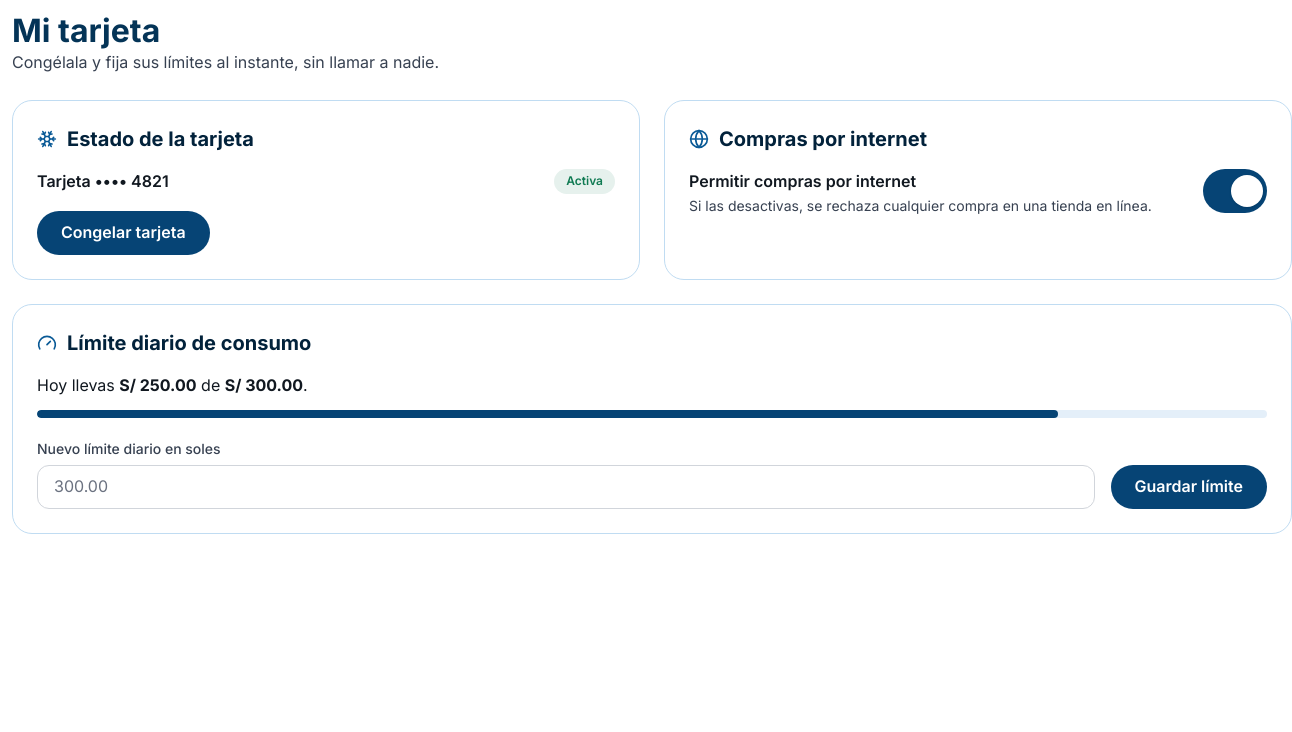
Test case: Controles de la tarjeta · HU-10 · AYNI-252 › escenario 1: congelar la deja CONGELADA al momento y lo anuncia
This screenshot has width=1292, height=732.
expect the heading "Estado de la tarjeta" is shown: met, box [37, 127, 254, 151]
Click the button "Congelar tarjeta" at [123, 233], box [37, 211, 210, 255]
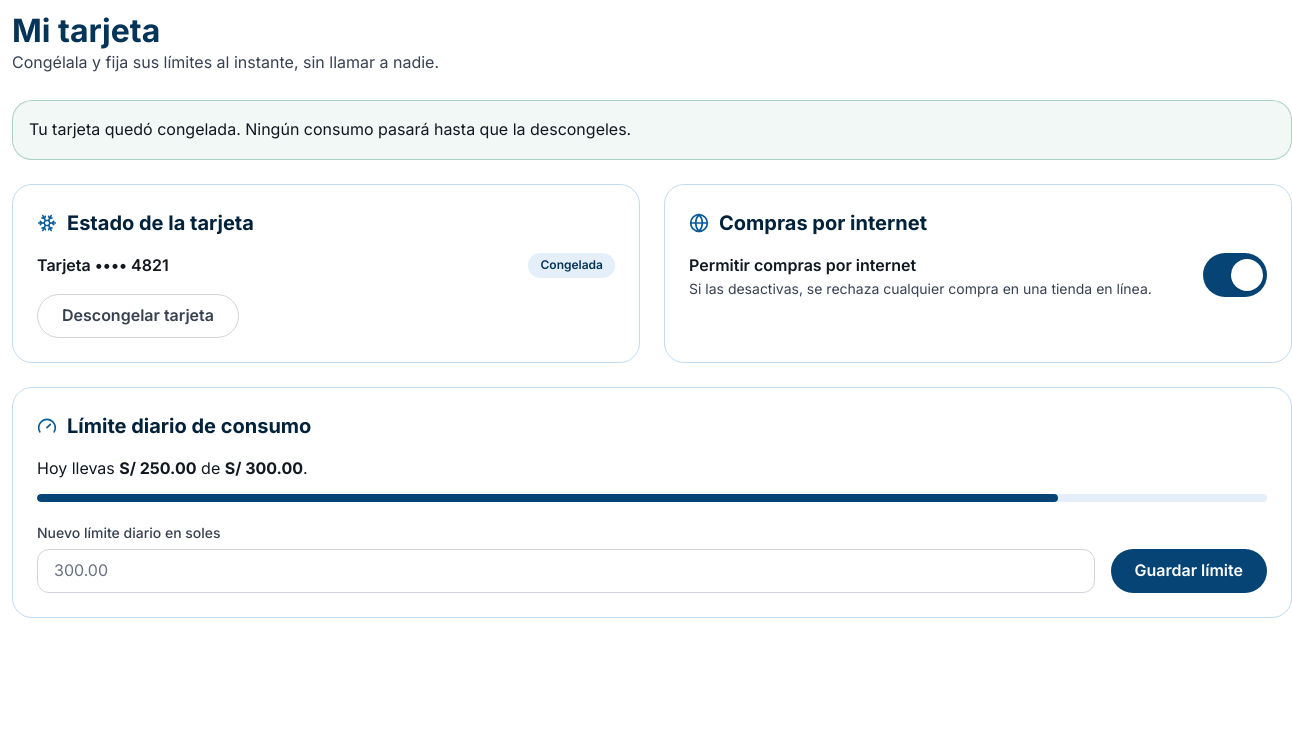
expect the text "Congelada" is shown: met, box [528, 253, 615, 278]
expect the message shows "Tu tarjeta quedó congelada": met, box [29, 119, 631, 139]
expect the button "Descongelar tarjeta" is shown: met, box [37, 294, 239, 338]
